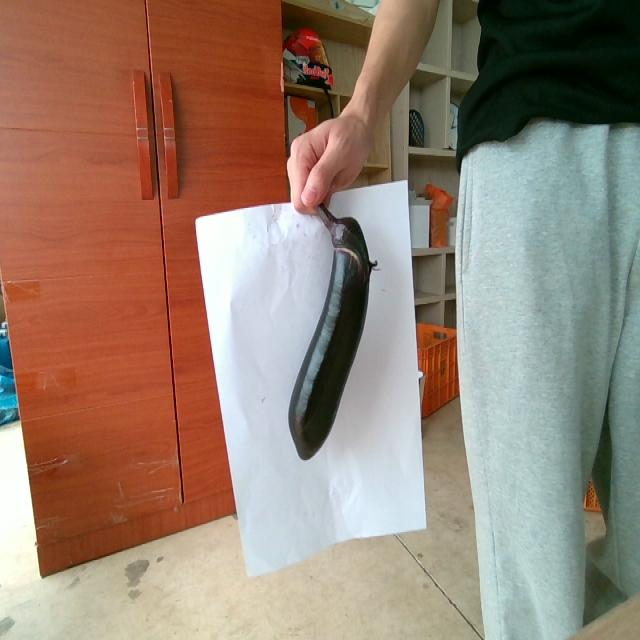Egg plant: (288, 204, 376, 459)
